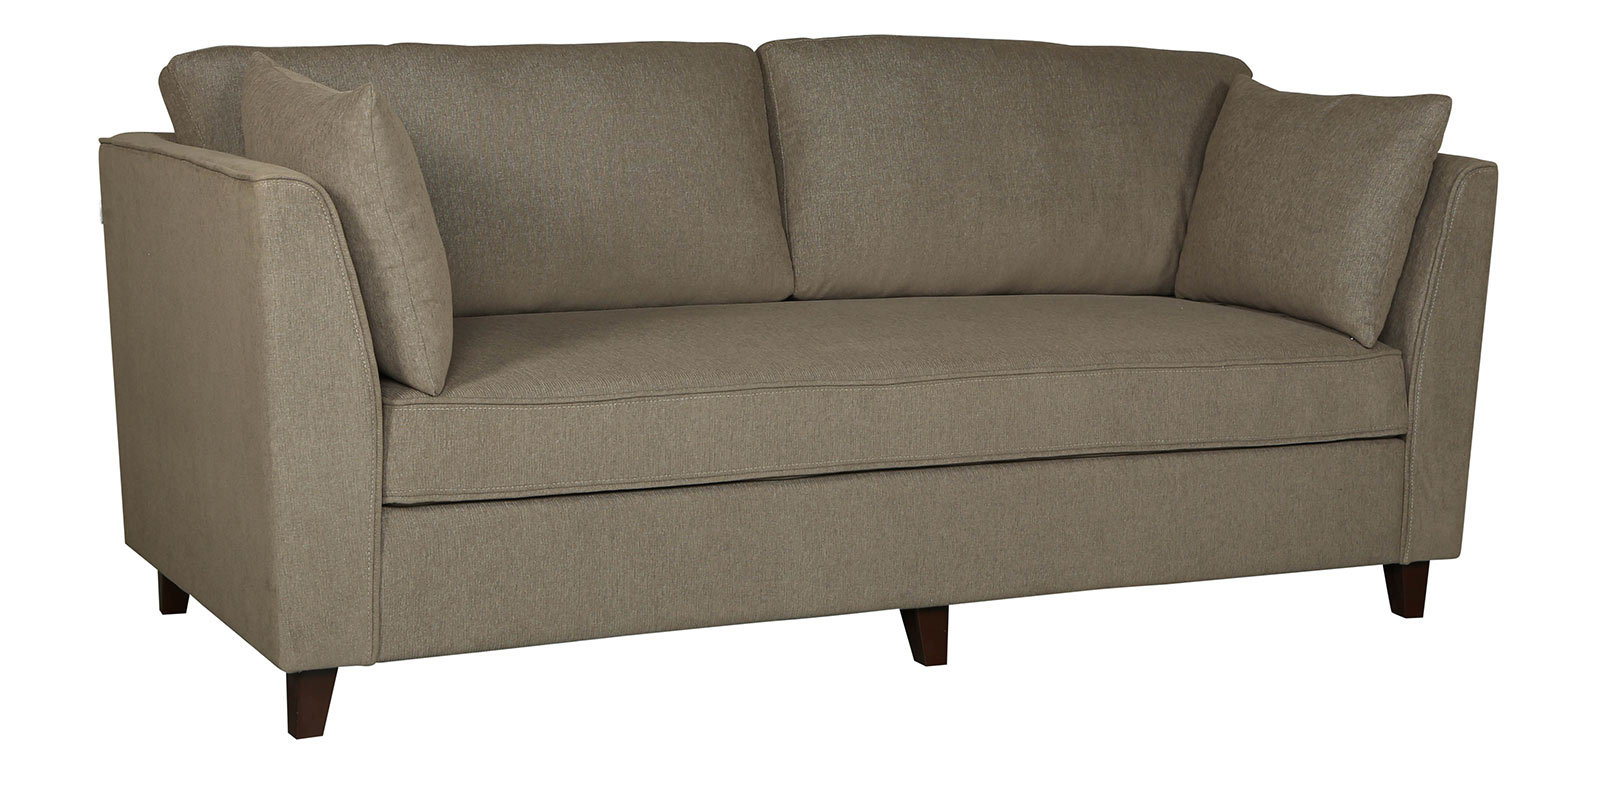Miranda Three Seater Sofa in Sandy Brown Colour by CasaCraft: (95, 34, 1502, 741)
